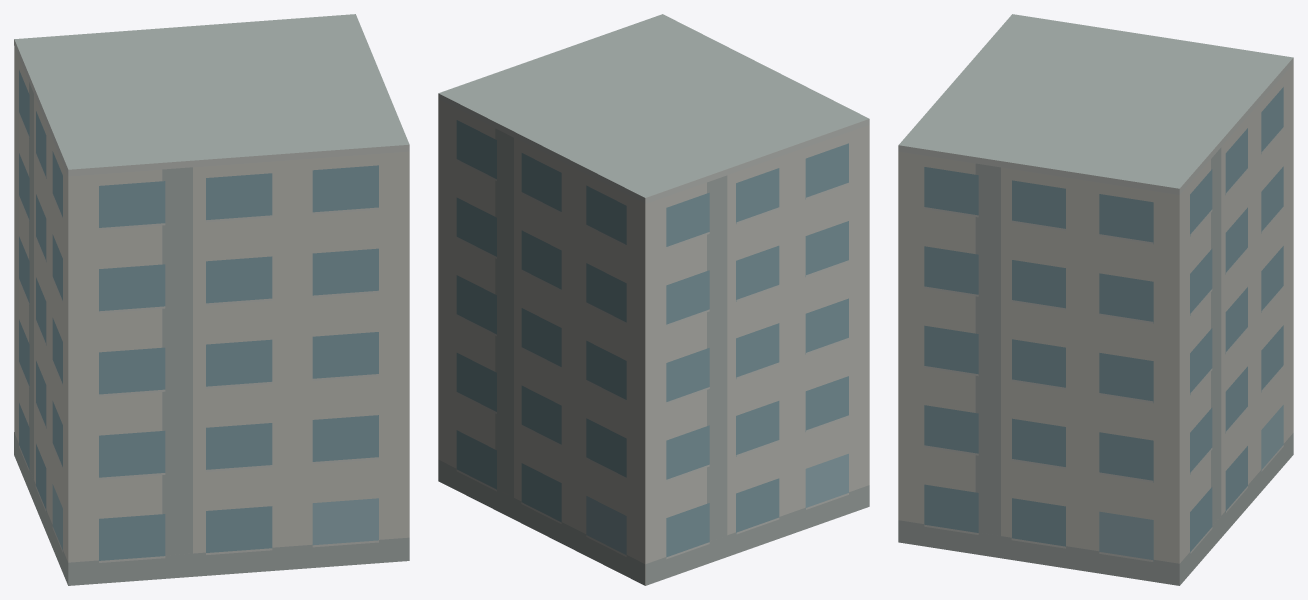
The model's file is residential-3408112d-d1d3-464c-8d5a-71e23c97f162.glb.
The picture shows the model from 3 angles, left to right: view 1: azimuth 30°, elevation 25°; view 2: azimuth 150°, elevation 25°; view 3: azimuth 270°, elevation 25°; orthographic projection. The views are drawn at different scales.
Parts seen in each view (by area): view 1: residential-3408112d-d1d3-464c-8d5a-71e23c97f162.tmp; view 2: residential-3408112d-d1d3-464c-8d5a-71e23c97f162.tmp; view 3: residential-3408112d-d1d3-464c-8d5a-71e23c97f162.tmp.
Part boxes in pixels (<box>): residential-3408112d-d1d3-464c-8d5a-71e23c97f162.tmp: <box>14,14,409,585</box>; residential-3408112d-d1d3-464c-8d5a-71e23c97f162.tmp: <box>438,14,869,585</box>; residential-3408112d-d1d3-464c-8d5a-71e23c97f162.tmp: <box>898,14,1293,585</box>.
Bounding box in the file's own units: 14.4 × 15.25 × 13.76.
